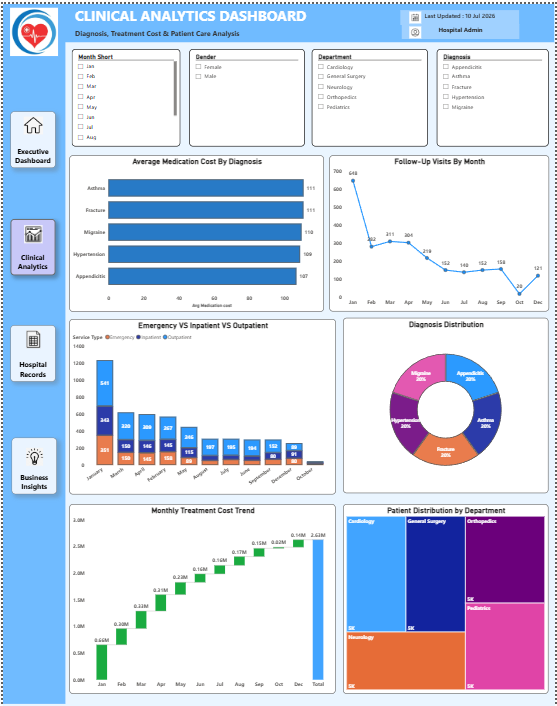

What the dashboard file says about the page in this screenshot:
{"tool":"powerbi","page":{"name":"Clinical Analytics","canvas":[1470,1870],"ordinal":1},"visuals":[{"type":"group","id":"g1","title":"Group 1","box":[184,120,1270,260],"z":0,"group":"g3"},{"type":"slicer","fields":{"Values":["Date Table.Month Short"]},"box":[184,120,290,260],"z":0,"group":"g1"},{"type":"clusteredBarChart","title":"Average Medication Cost By Diagnosis","fields":{"Category":["diagnoses.Diagnosis"],"Y":["DAX Measures.Avg Medication cost"]},"box":[177.4,403.2,679,417.7],"z":0,"group":"g2"},{"type":"group","id":"g2","title":"Group 2","box":[0,0,1470,1866.7],"z":1000,"group":"g3"},{"type":"shape","box":[0,80,166.7,1786.7],"z":1000,"group":"g2"},{"type":"slicer","fields":{"Values":["providers.Gender"]},"box":[495.7,120,308.1,259.7],"z":1000,"group":"g1"},{"type":"shape","box":[0,0,1470,102],"z":2000,"group":"g2"},{"type":"slicer","fields":{"Values":["departments.Department"]},"box":[825.5,120,309.7,259.7],"z":2000,"group":"g1"},{"type":"slicer","fields":{"Values":["diagnoses.Diagnosis"]},"box":[1157,120,298.4,259.7],"z":3000,"group":"g1"},{"type":"waterfallChart","title":"Monthly Treatment Cost Trend","fields":{"Category":["Date Table.Month Short"],"Y":["DAX Measures.Total Treatment Cost"]},"box":[176,1332,710,506],"z":3000,"group":"g2"},{"type":"textbox","box":[177.1,0,747.1,72.9],"z":4000,"group":"g2"},{"type":"donutChart","title":"Diagnosis Distribution","fields":{"Y":["DAX Measures.Total Patients"],"Category":["diagnoses.Diagnosis"]},"box":[906,838,548,468],"z":5000,"group":"g2"},{"type":"textbox","box":[176.7,60,571.7,41.7],"z":6000,"group":"g2"},{"type":"treemap","title":"Patient Distribution by Department","fields":{"Values":["DAX Measures.Total Patients"],"Group":["departments.Department"]},"box":[906,1332,548,506],"z":7000,"group":"g2"},{"type":"image","box":[8.6,8.6,145.7,128.6],"z":8000,"group":"g2"},{"type":"columnChart","title":"Emergency VS Inpatient VS Outpatient","fields":{"Category":["Date Table.Month"],"Series":["visits.Service Type"],"Y":["DAX Measures.Total Visits"]},"box":[177.4,838.7,711.3,467.7],"z":9000,"group":"g2"},{"type":"lineChart","title":"Follow-Up Visits By Month","fields":{"Y":["DAX Measures.Follow-Up Visits"],"Category":["Date Table.Month Short"]},"box":[868.3,403.3,586.7,416.7],"z":10000,"group":"g2"},{"type":"actionButton","box":[20,285,120,150],"z":11000,"group":"g2"},{"type":"cardVisual","fields":{"Data":["DAX Measures.Last Refresh"]},"box":[1043.3,0,350,73.3],"z":12000,"group":"g2"},{"type":"actionButton","box":[20,571.7,120,150],"z":13000,"group":"g2"},{"type":"image","box":[51.7,300,55,48.3],"z":14000,"group":"g2"},{"type":"image","box":[51.7,588.3,55,48.3],"z":15000,"group":"g2"},{"type":"actionButton","box":[21.7,1156.7,120,150],"z":16000,"group":"g2"},{"type":"actionButton","box":[20,855,120,150],"z":17000,"group":"g2"},{"type":"image","box":[56.7,1183.3,55,48.3],"z":18000,"group":"g2"},{"type":"image","box":[53.3,870,55,48.3],"z":19000,"group":"g2"},{"type":"textbox","box":[1061.7,53.3,313.3,40],"z":20000,"group":"g2"},{"type":"image","box":[1083.3,20,31.7,31.7],"z":21000,"group":"g2"},{"type":"image","box":[1083.3,55,31.7,38.3],"z":22000,"group":"g2"},{"type":"group","id":"g3","title":"Group 3","box":[0,0,1470,1866.7],"z":23002}]}

Visuals, with their boxes in screenshot pixels (x1, y1, x2, y2):
"Group 1" group: bbox=(69, 45, 541, 141)
slicer - Date Table.Month Short: bbox=(69, 45, 176, 141)
"Average Medication Cost By Diagnosis" clusteredBarChart: bbox=(66, 150, 319, 306)
"Group 2" group: bbox=(0, 0, 547, 695)
shape: bbox=(0, 30, 62, 695)
slicer - providers.Gender: bbox=(185, 45, 299, 141)
shape: bbox=(0, 0, 547, 38)
slicer - departments.Department: bbox=(307, 45, 423, 141)
slicer - diagnoses.Diagnosis: bbox=(431, 45, 542, 141)
"Monthly Treatment Cost Trend" waterfallChart: bbox=(66, 496, 330, 684)
textbox: bbox=(66, 0, 344, 27)
"Diagnosis Distribution" donutChart: bbox=(337, 312, 541, 486)
textbox: bbox=(66, 22, 279, 38)
"Patient Distribution by Department" treemap: bbox=(337, 496, 541, 684)
image: bbox=(3, 3, 57, 51)
"Emergency VS Inpatient VS Outpatient" columnChart: bbox=(66, 312, 331, 486)
"Follow-Up Visits By Month" lineChart: bbox=(323, 150, 542, 305)
actionButton: bbox=(7, 106, 52, 162)
cardVisual - DAX Measures.Last Refresh: bbox=(388, 0, 519, 27)
actionButton: bbox=(7, 213, 52, 269)
image: bbox=(19, 112, 40, 130)
image: bbox=(19, 219, 40, 237)
actionButton: bbox=(8, 431, 53, 487)
actionButton: bbox=(7, 318, 52, 374)
image: bbox=(21, 441, 42, 459)
image: bbox=(20, 324, 40, 342)
textbox: bbox=(395, 20, 512, 35)
image: bbox=(403, 7, 415, 19)
image: bbox=(403, 20, 415, 35)
"Group 3" group: bbox=(0, 0, 547, 695)
